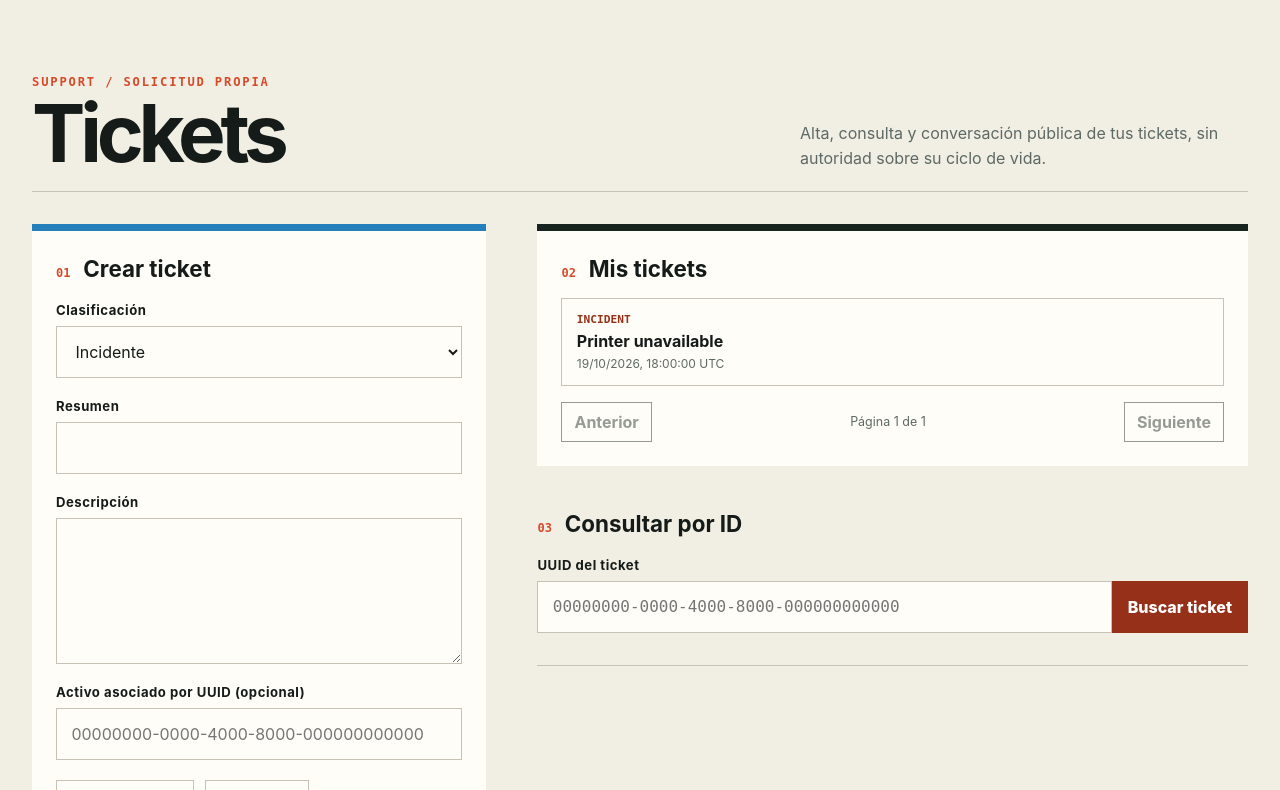
Test: TicketWorkspace › shows a PUBLIC comment written by the assigned technician
The image size is (1280, 790).
Click the button "INCIDENT Printer unavailable 19/10/2026, 18:00:00 UTC": {"x": 604, "y": 319} x1=562 y1=298 x2=1224 y2=386
(page scrolled)
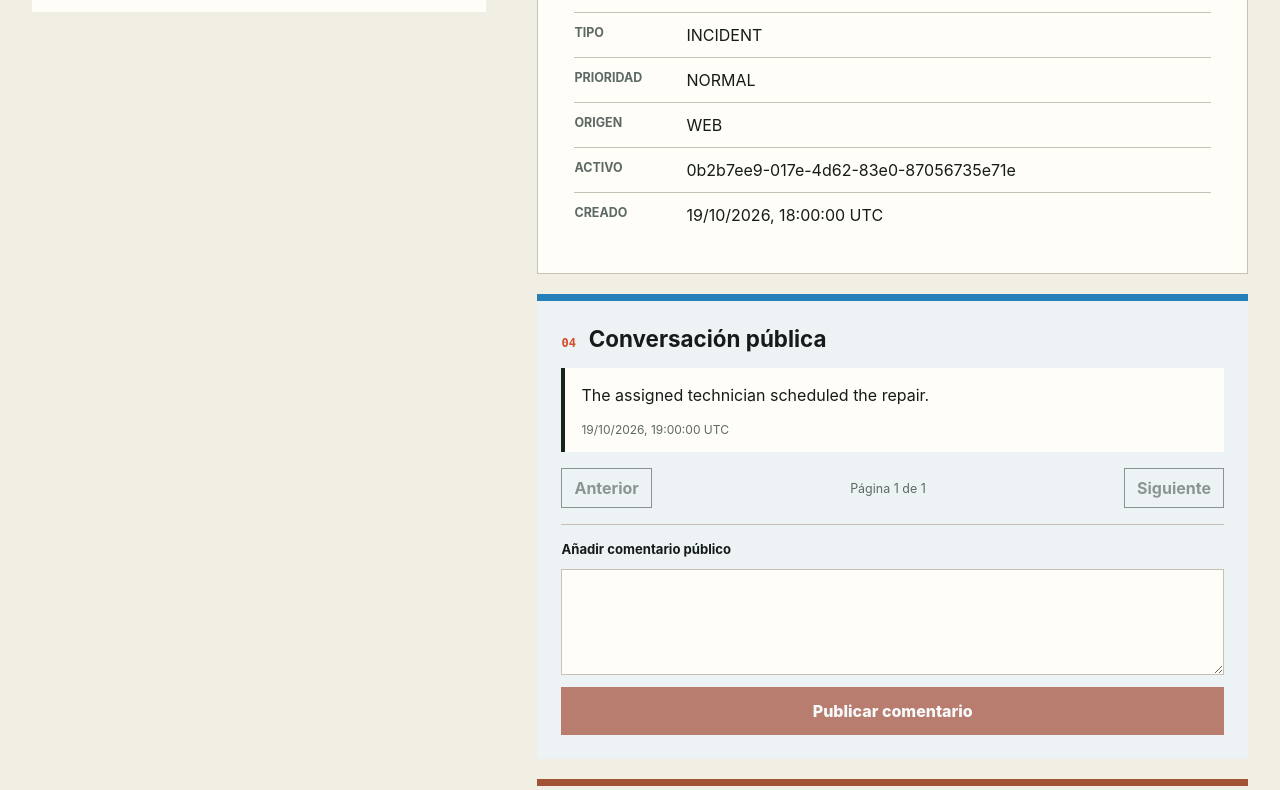
Check: the text "The assigned technician scheduled the repair." is shown, box x1=582 y1=385 x2=929 y2=405
